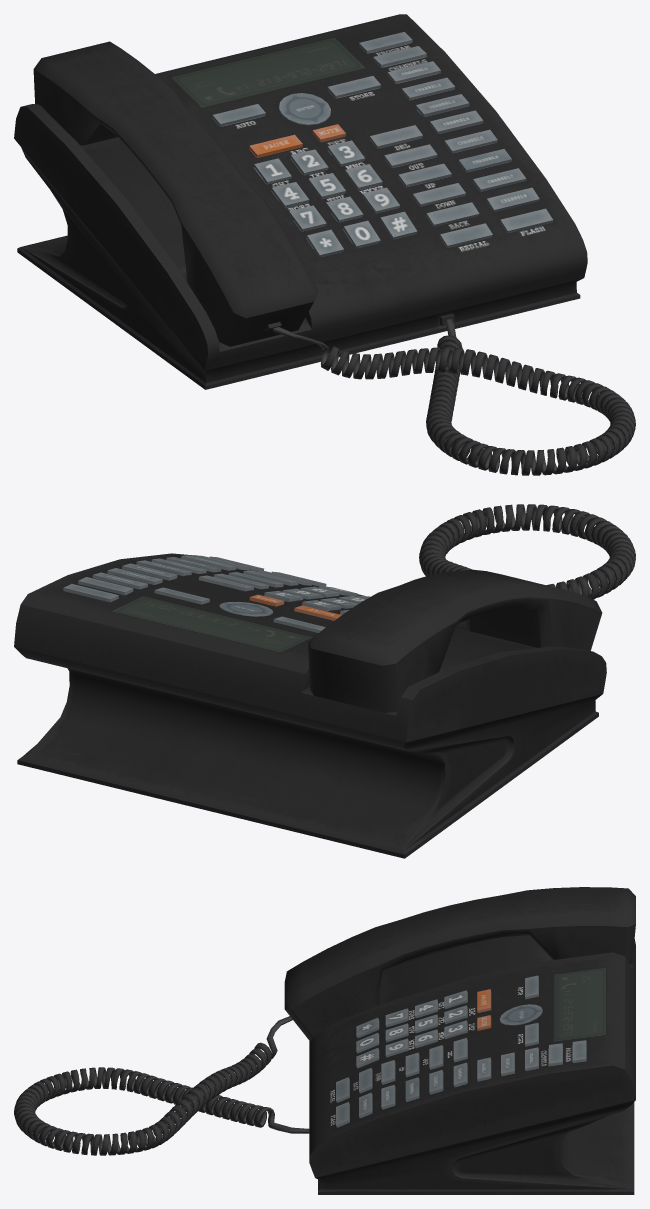
The model's file is Phone.fbx.
3 renders of one model, top to bottom at view 1: azimuth 30°, elevation 25°; view 2: azimuth 150°, elevation 25°; view 3: azimuth 270°, elevation 25°, orthographic. The views are drawn at different scales.
Parts seen in each view (by area): view 1: Phone_LOD0; view 2: Phone_LOD0; view 3: Phone_LOD0.
Boxes of the visible parts, x1,y1,x2,y2 form: Phone_LOD0: (14,14,635,475); Phone_LOD0: (14,504,635,858); Phone_LOD0: (14,887,635,1194).
Size of what is drawn, in the model's own units: 25 by 12.16 by 42.17.
